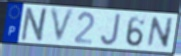2: (73, 11, 96, 46)
6: (125, 15, 147, 48)
J: (99, 12, 122, 47)
N: (19, 7, 51, 44), (145, 16, 175, 50)
V: (49, 7, 77, 46)
